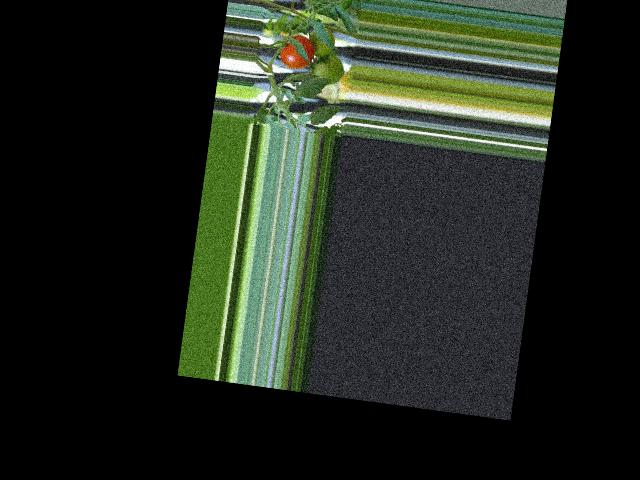tomato: (278, 33, 316, 71)
